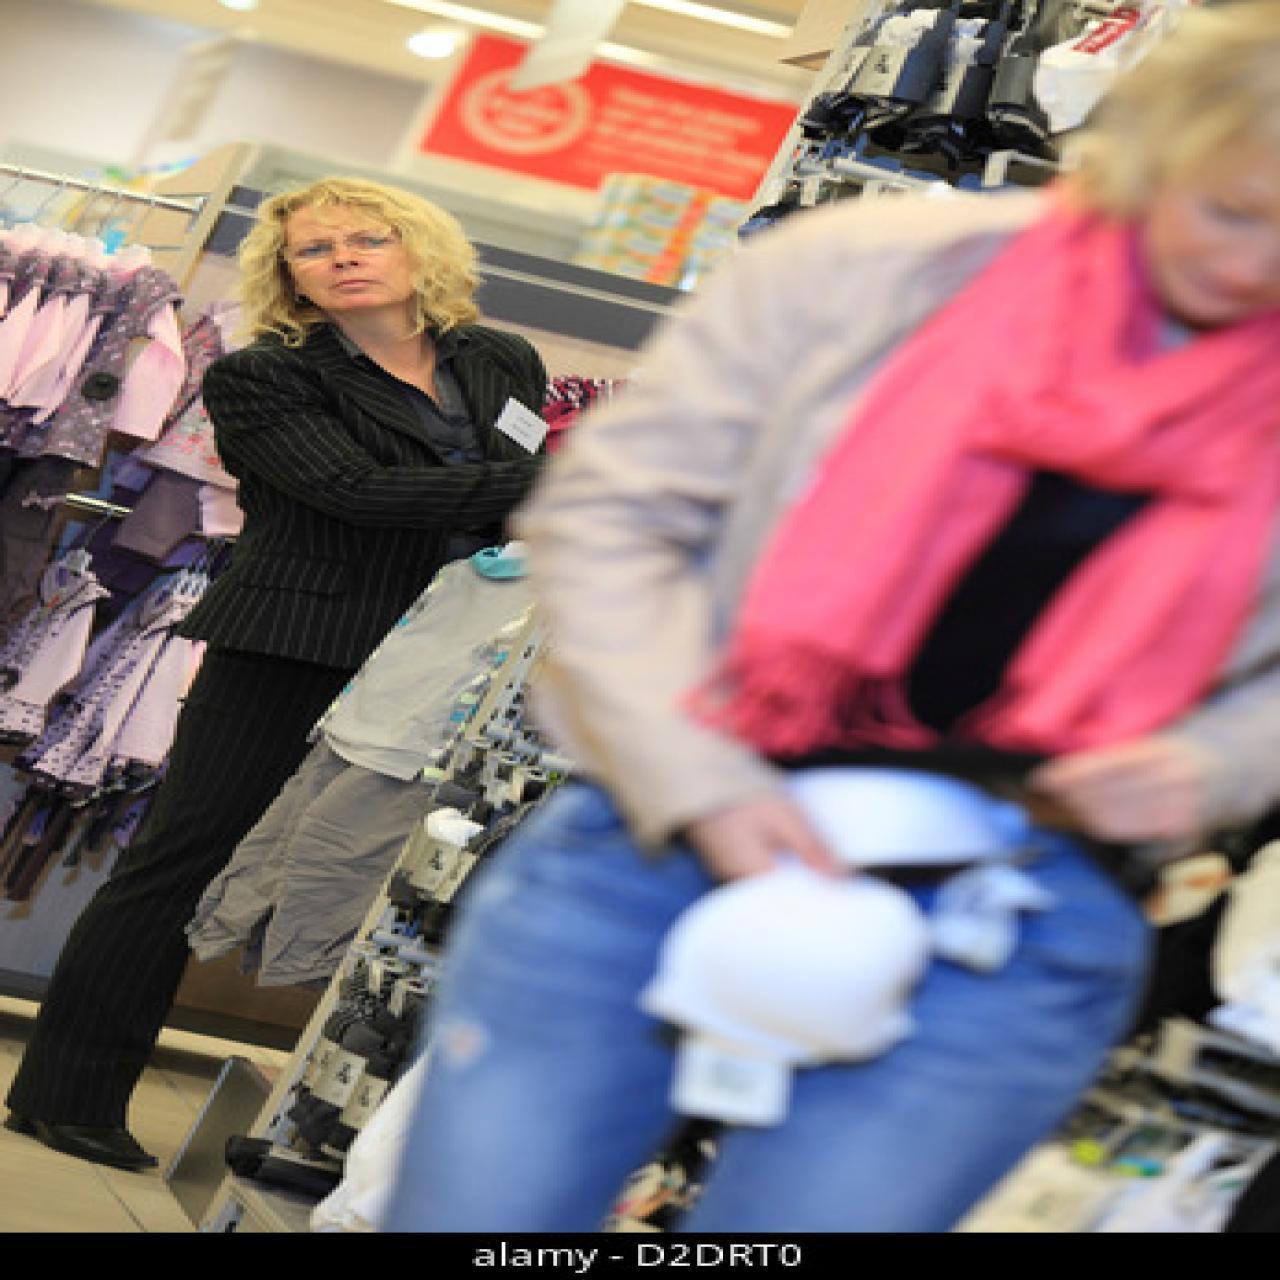Shoplifting: (610, 157, 1254, 1226)
